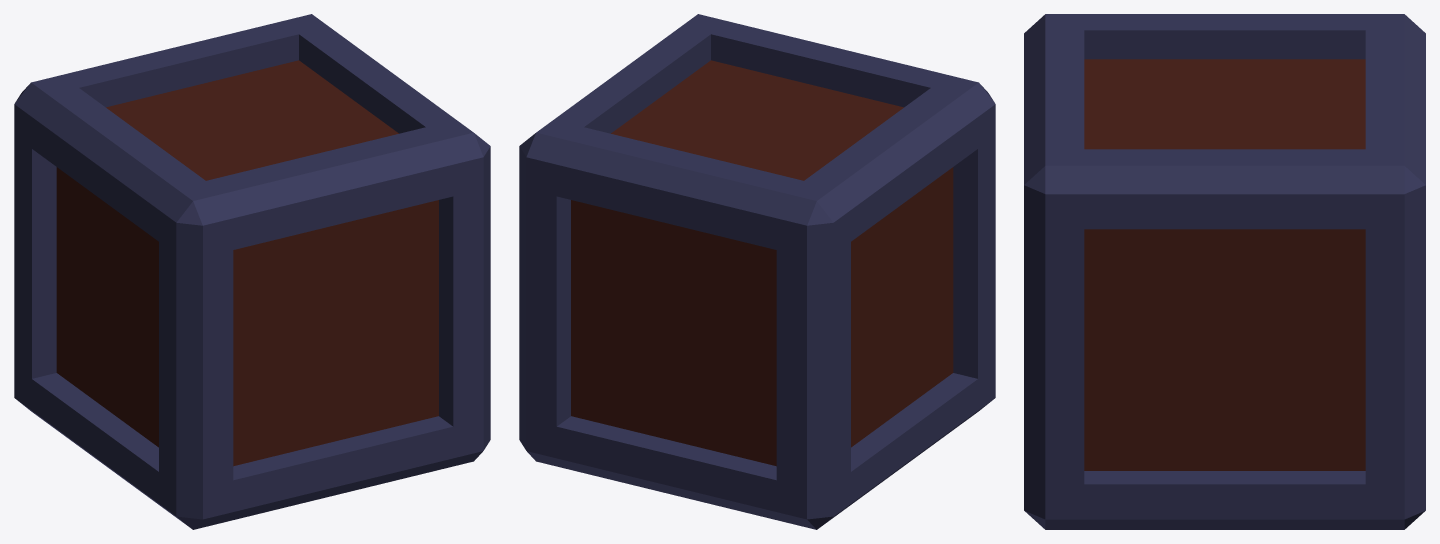
The picture shows the model from 3 angles, left to right: view 1: azimuth 30°, elevation 25°; view 2: azimuth 150°, elevation 25°; view 3: azimuth 270°, elevation 25°; orthographic projection. The views are drawn at different scales.
Visible parts, largest first — view 1: Cube; view 2: Cube; view 3: Cube.
Boxes of the visible parts, <box> form: Cube: <box>14,14,490,529</box>; Cube: <box>519,14,995,529</box>; Cube: <box>1024,14,1425,529</box>.
Size of the model in its own units: 2 by 2 by 2.
1 material, 1 textured.
